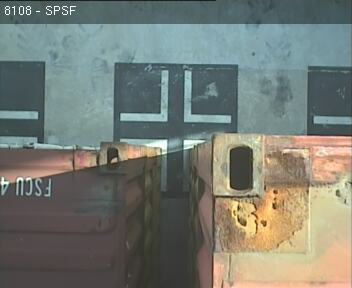groundmarker_1: (119, 70, 229, 122), (119, 138, 202, 189)
